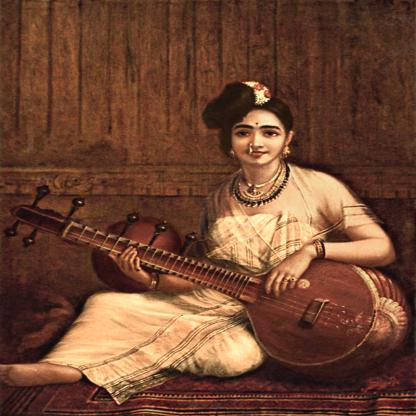Veena: (12, 229, 397, 366)
